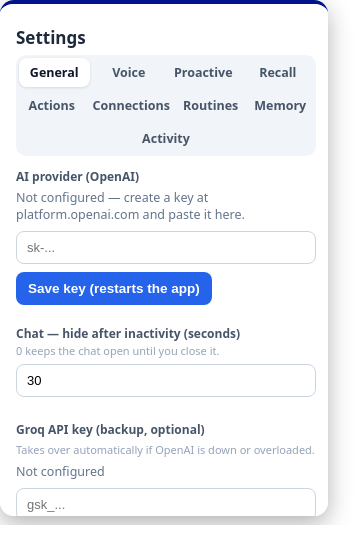
Settings — AI provider (ADR-006) › saves a pasted OpenAI key through the bridge (which restarts the app)
The width and height of the screenshot is (358, 542).
In the password field named "OpenAI API key": {"x": 166, "y": 248} x1=16 y1=231 x2=316 y2=264, type "  sk-test-123  "
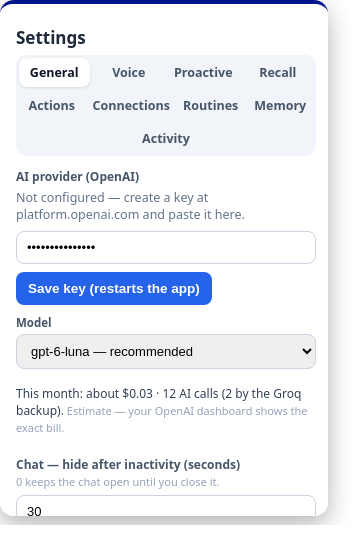
Click the button "Save key (restarts the app)": {"x": 114, "y": 288} x1=16 y1=272 x2=212 y2=305
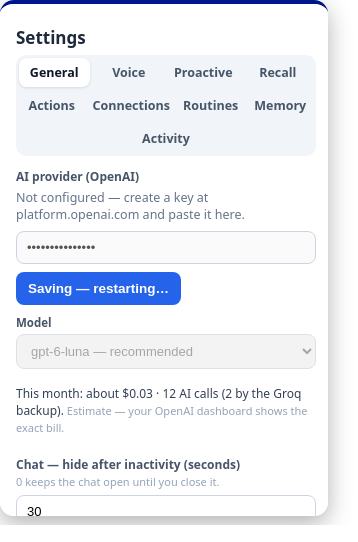
Expected: the button "Saving — restarting…" is shown, x1=16 y1=272 x2=181 y2=305
